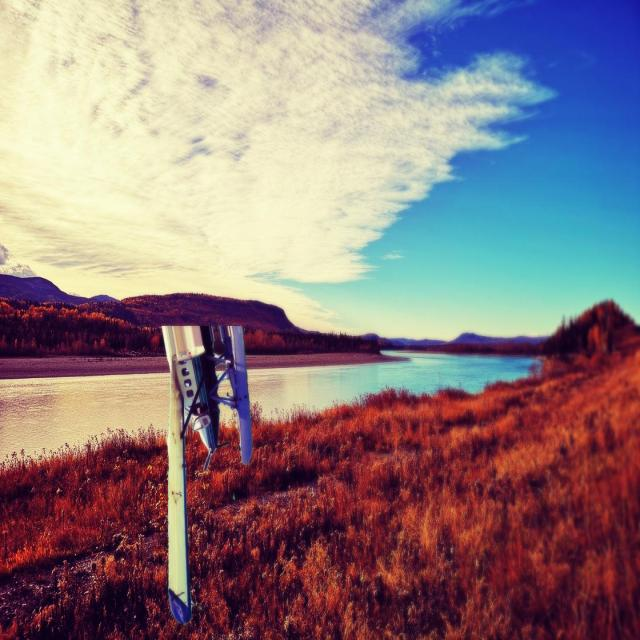airplane: (160, 322, 253, 624)
